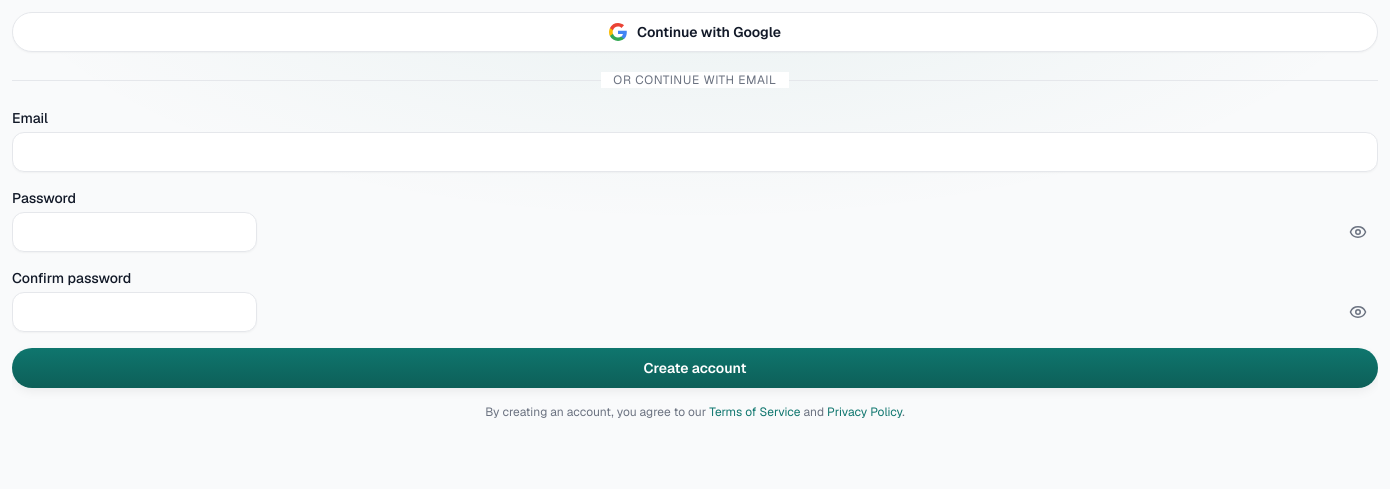
it: SignupForm › shows a real error alert when Supabase rejects the signup
Type "person@example.com" into the field labelled "Email". click: [695, 152]
box: [12,132,1378,172]
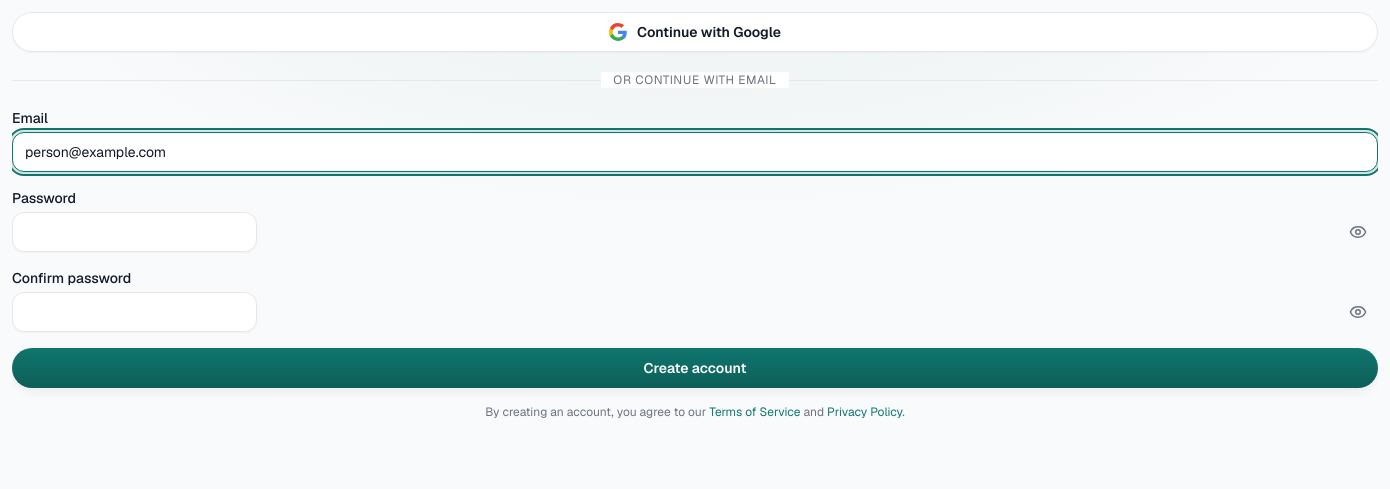
Type "correcthorse" into the password field labelled "Password". click: [134, 232]
box: [12,212,257,252]
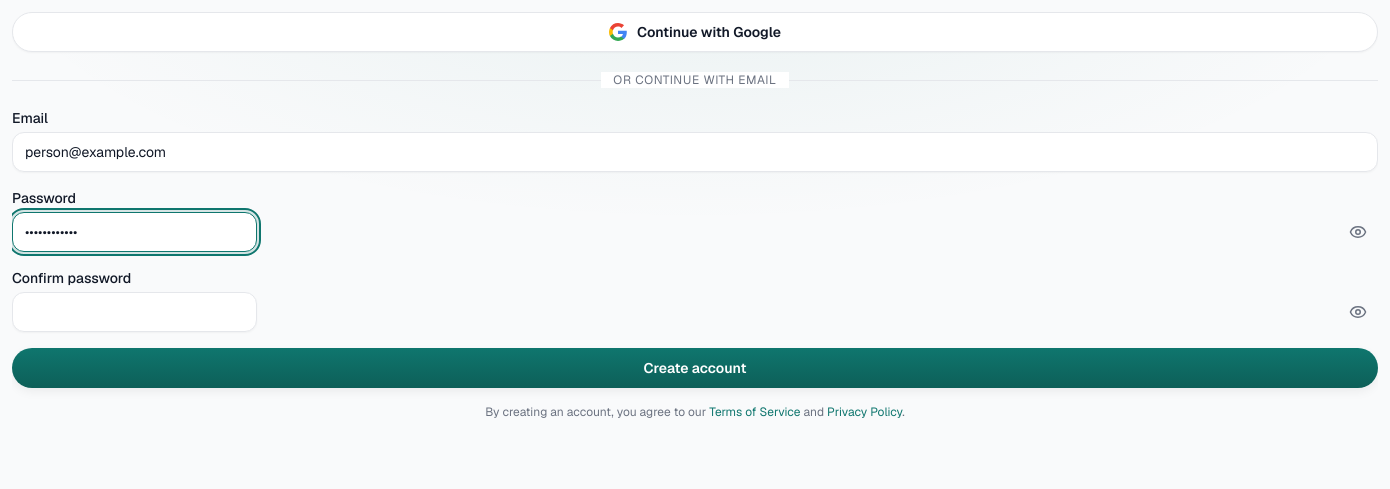
Type "correcthorse" into the password field labelled "Confirm password". click: [134, 312]
box: [12,292,257,332]
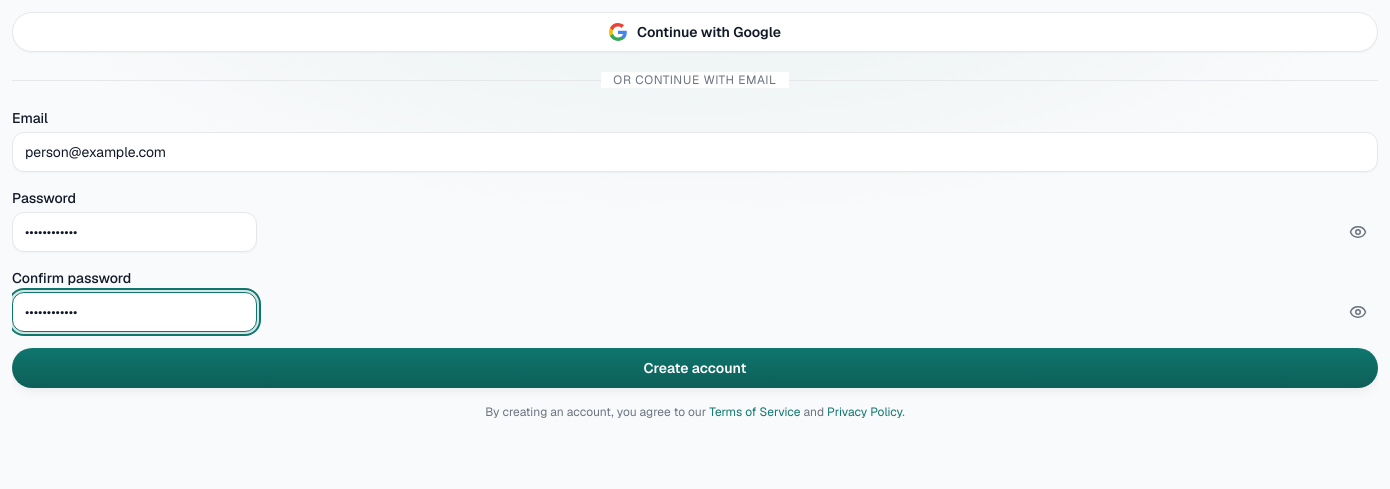
Click the button "Create account". click: [695, 368]
box: [12,348,1378,388]
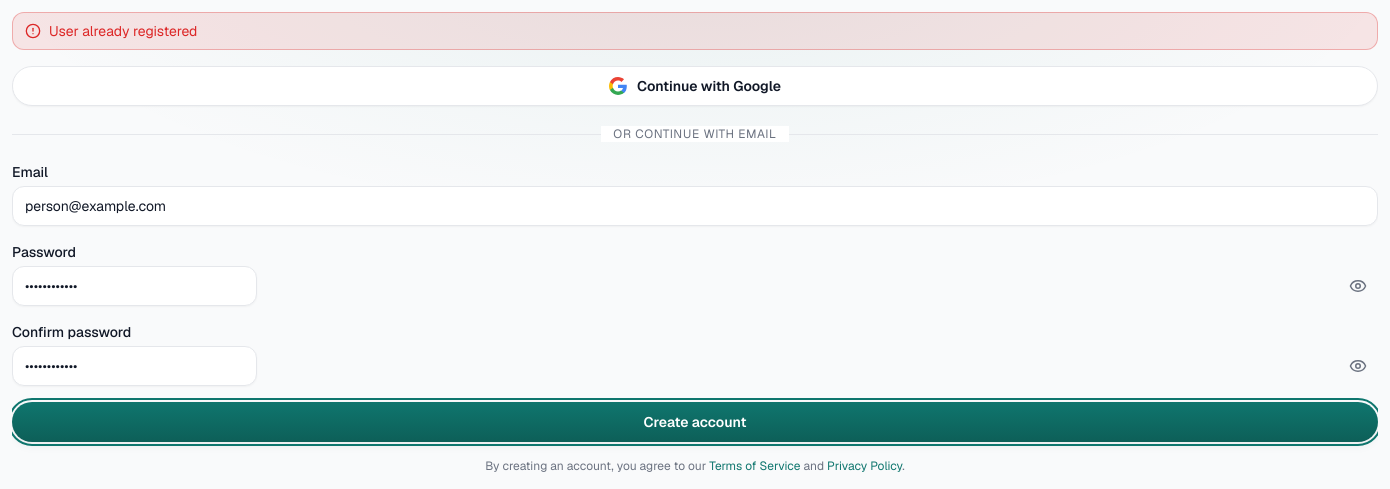
Expected: the button "Create account" is enabled, [12,402,1378,442]
Expected: the text "User already registered" is shown, [49,21,198,41]
